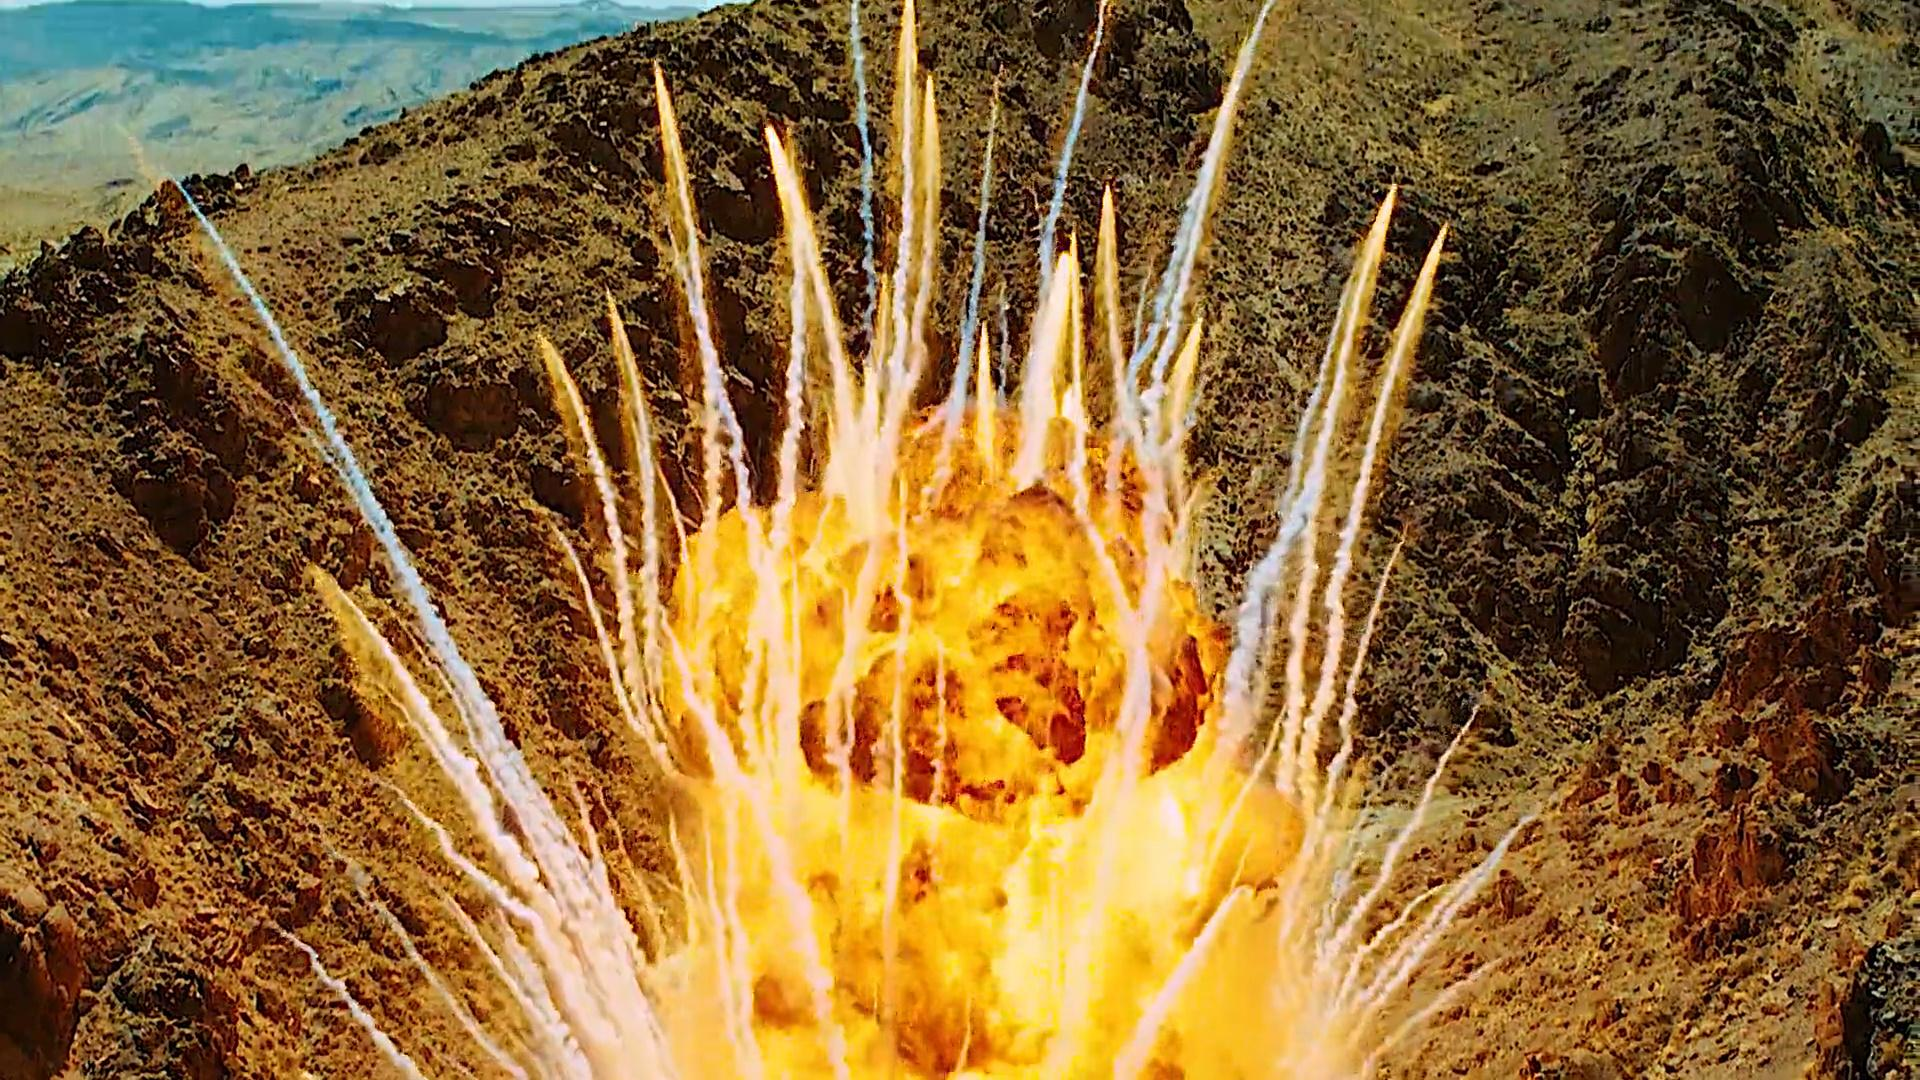fire: (348, 46, 1536, 1080)
